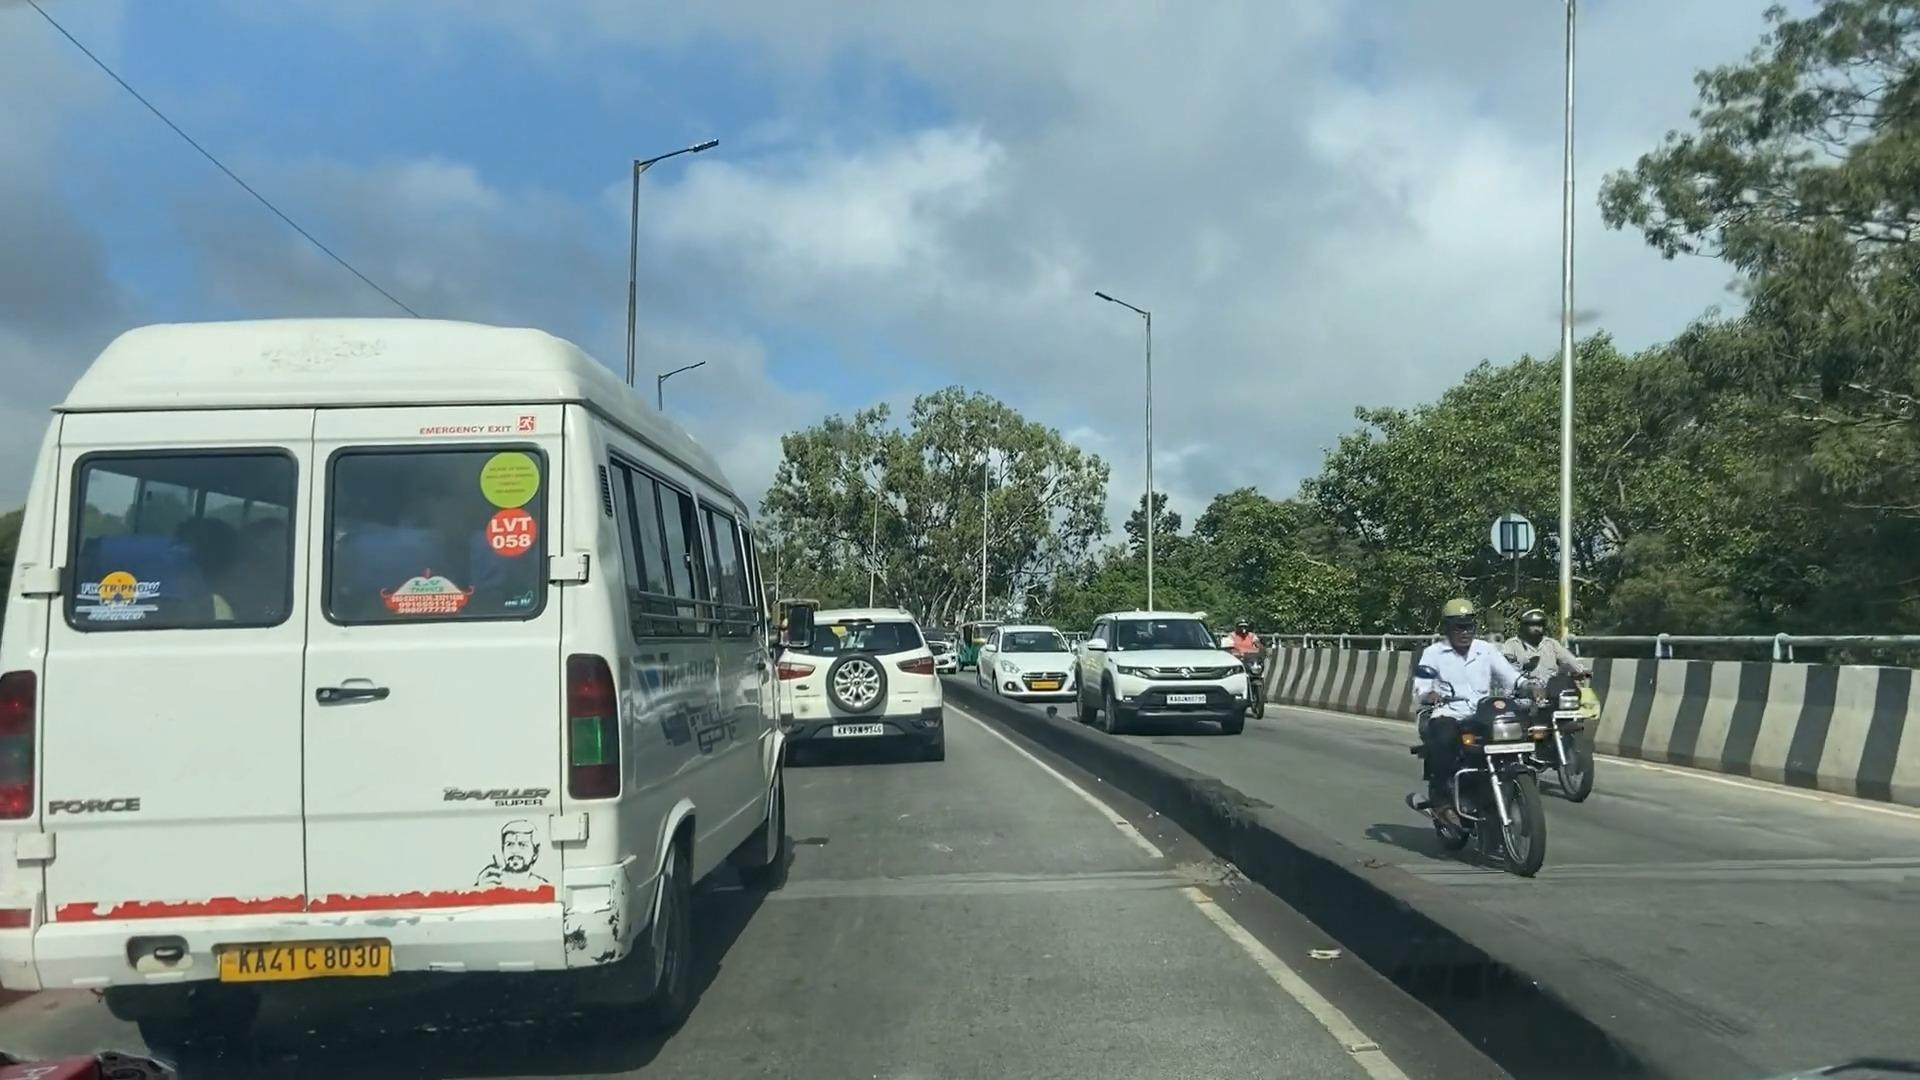HMV: (16, 319, 777, 1017)
LMV: (773, 609, 943, 749)
SpeedBump: (782, 855, 1213, 915)
